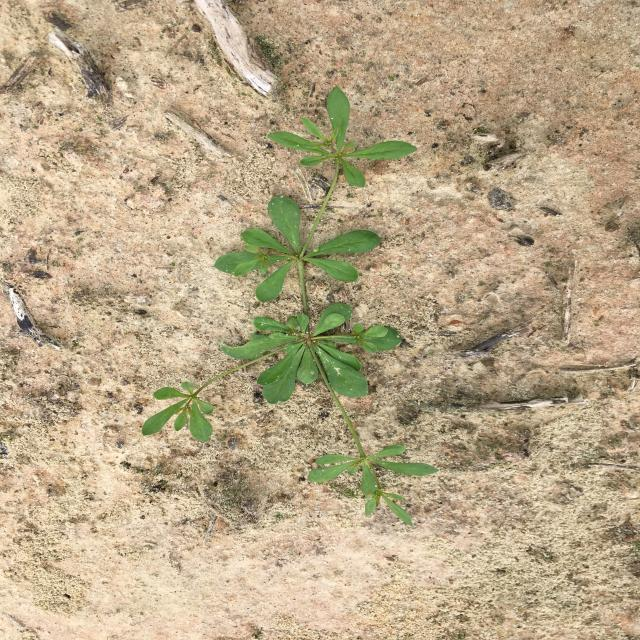Carpetweed: (142, 86, 439, 527)
